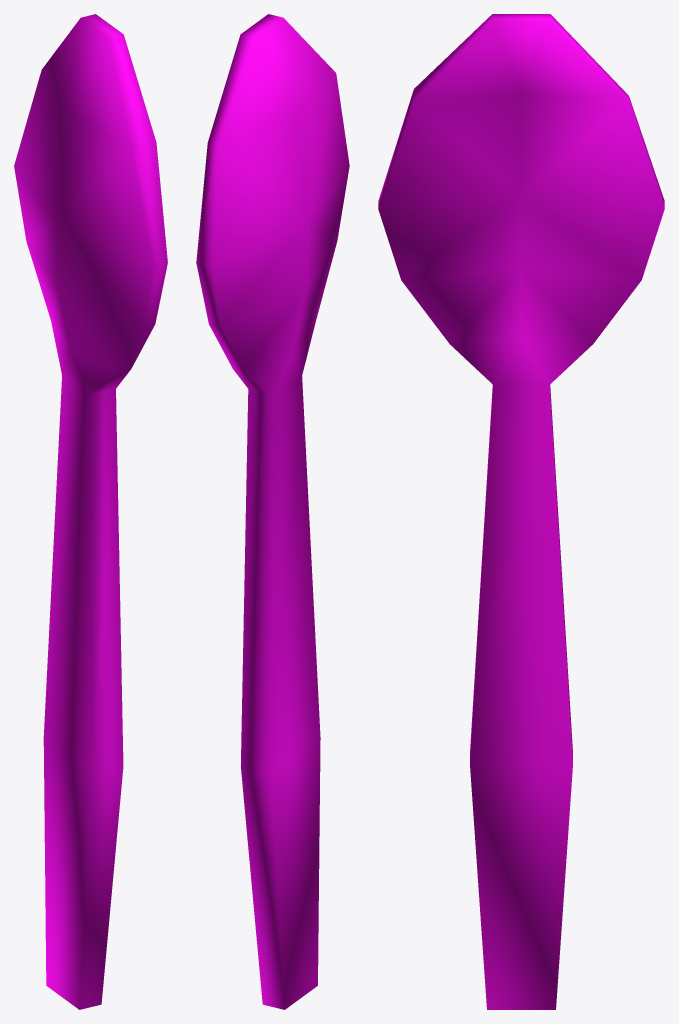
Rendered from spoon_meshCollider.fbx.
3 views of the same model, side by side, from view 1: azimuth 30°, elevation 25°; view 2: azimuth 150°, elevation 25°; view 3: azimuth 270°, elevation 25° (orthographic). The views are drawn at different scales.
Parts seen in each view (by area): view 1: foods_spoon_1_meshCollider; view 2: foods_spoon_1_meshCollider; view 3: foods_spoon_1_meshCollider.
Boxes of the visible parts, left/top/right/bottom form: foods_spoon_1_meshCollider: left=14, top=14, right=167, bottom=1009; foods_spoon_1_meshCollider: left=196, top=14, right=349, bottom=1009; foods_spoon_1_meshCollider: left=378, top=14, right=664, bottom=1009.
Size of the model in its own units: 1.45 by 24.98 by 6.48.
